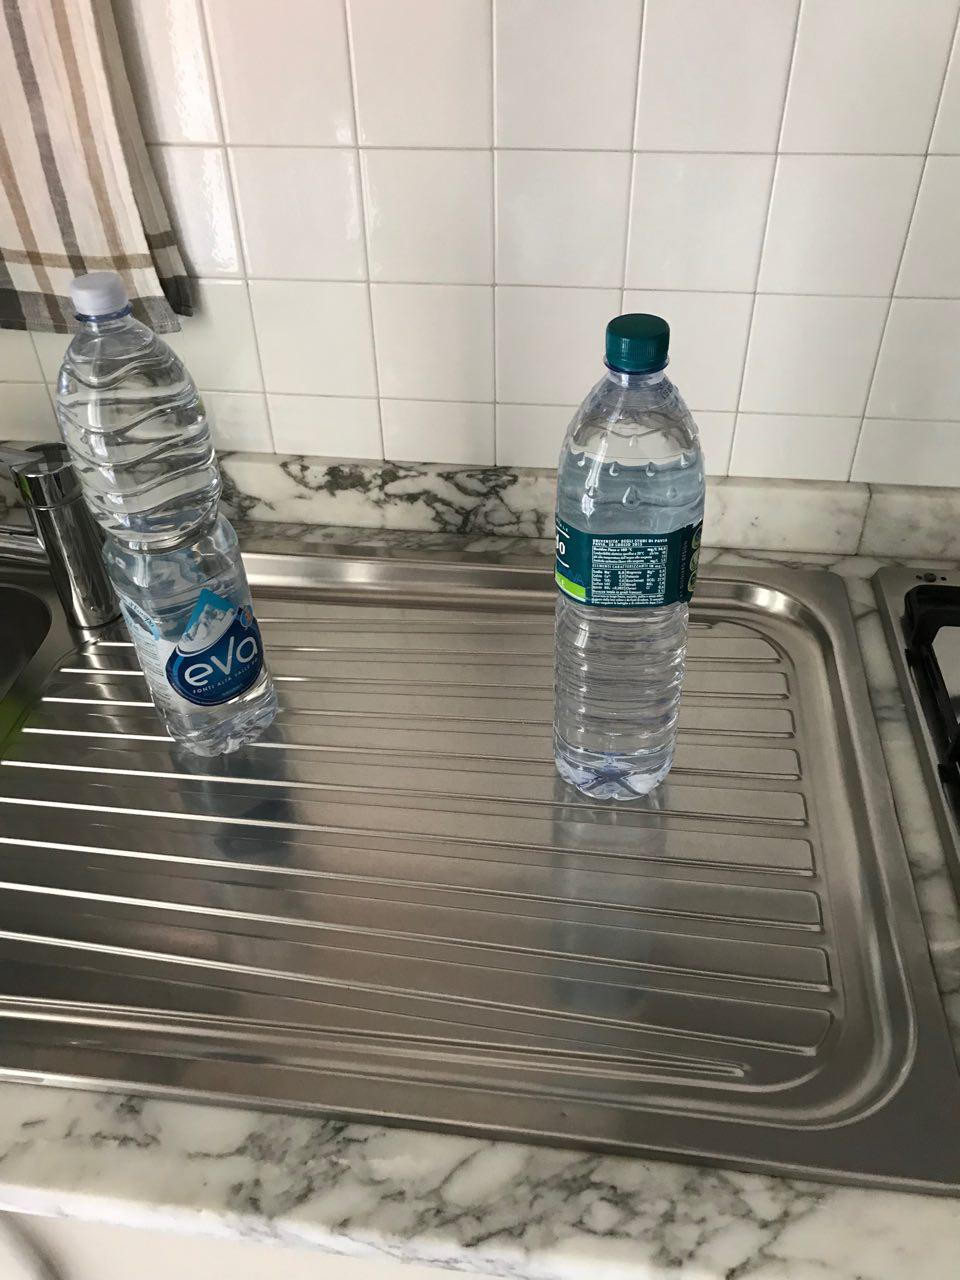san_bernardo: (551, 312, 706, 802)
